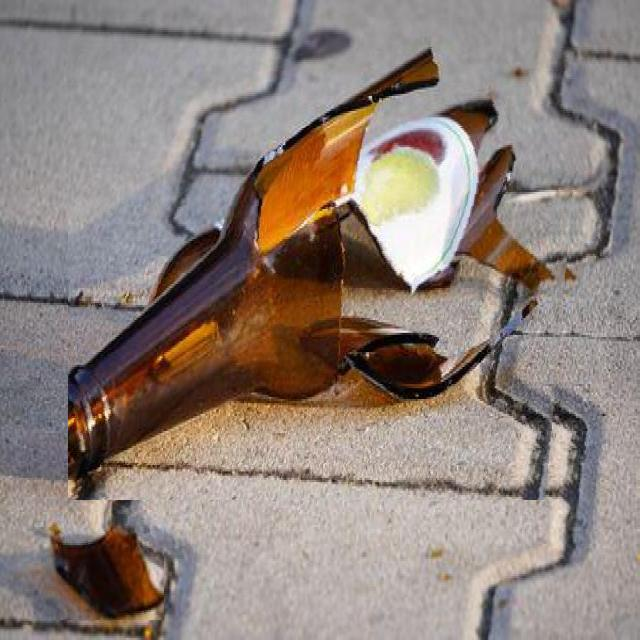Glass: (68, 42, 586, 500), (46, 516, 165, 620)
